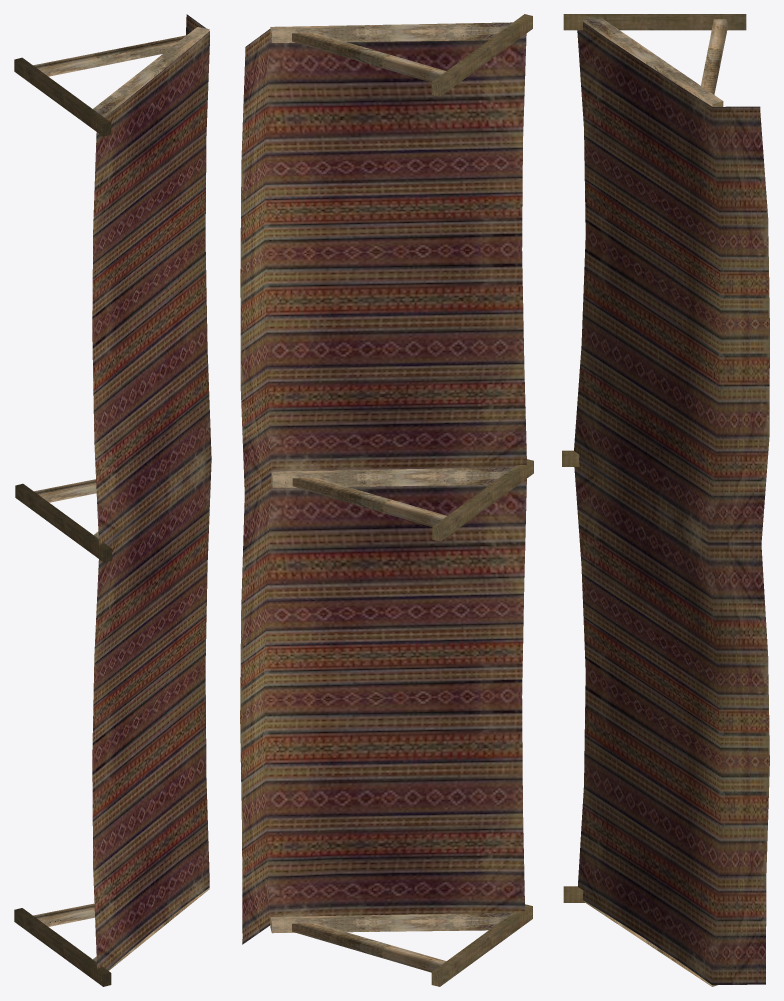
Rendered from awning_2-5x11.glb.
3 renders of one model, left to right at view 1: azimuth 30°, elevation 25°; view 2: azimuth 150°, elevation 25°; view 3: azimuth 270°, elevation 25°, orthographic. The views are drawn at different scales.
Size of the model in its own units: 29.85 by 137 by 29.15.
1 material, 1 textured.
